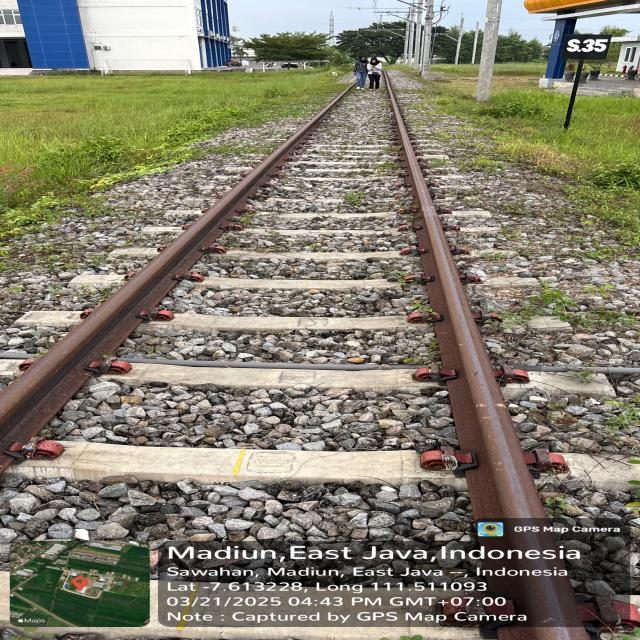rail-detection: (0, 91, 347, 469), (386, 77, 544, 520), (520, 580, 584, 640)
